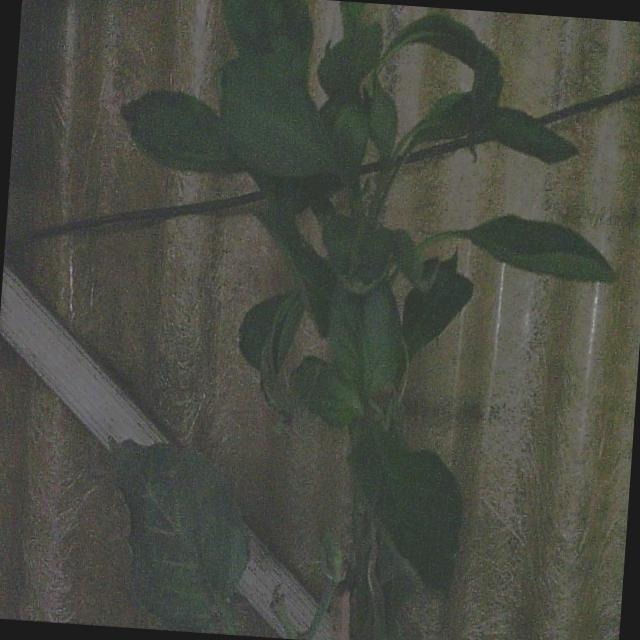Leaf: (114, 441, 248, 630), (220, 54, 344, 178), (459, 215, 615, 281), (121, 91, 245, 173), (402, 255, 472, 357), (222, 0, 313, 60), (291, 356, 363, 428), (318, 24, 382, 102), (488, 107, 577, 163)
